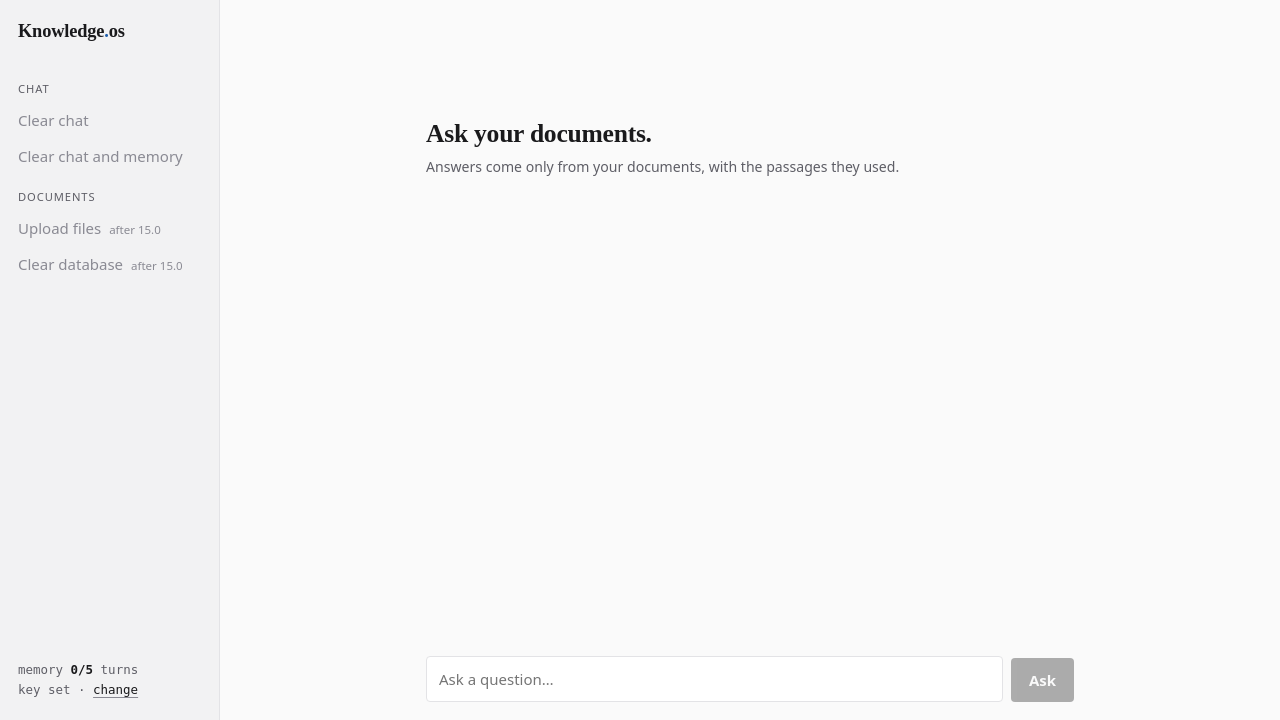
Test: App › replaces the streamed text with the final answer and its caveat
Type "How do I change a tyre?" into the text box labelled "question" at x=714, y=679, box [426, 656, 1003, 702]
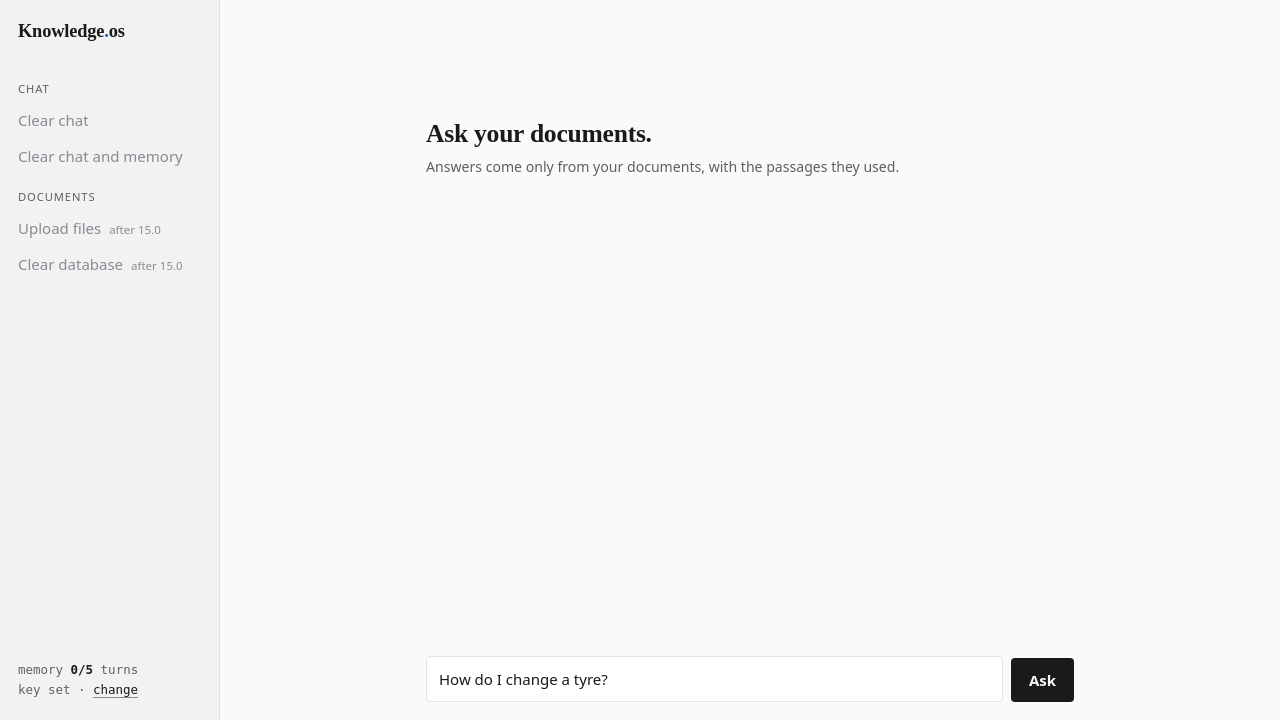
Click the button "Ask" at x=1042, y=680, box [1011, 658, 1074, 702]
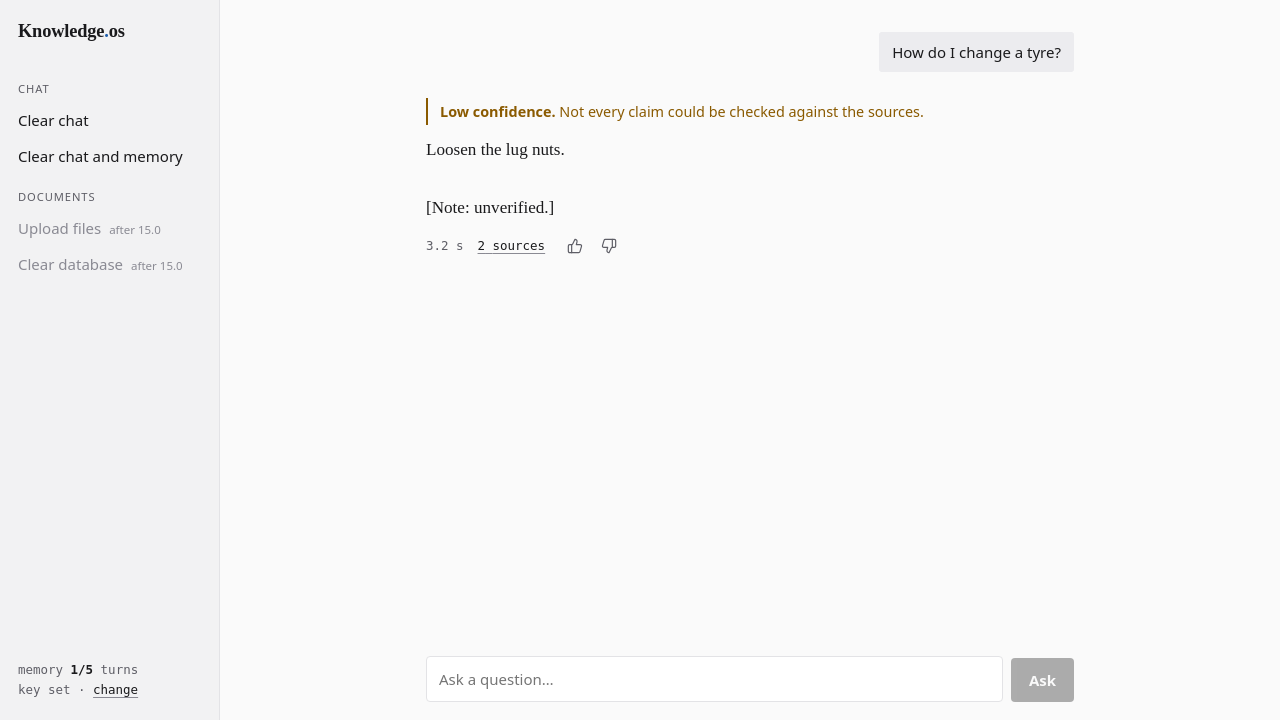
Expected: the message shows "Low confidence", [440, 102, 556, 121]
Expected: the text "Loosen the lug nuts. [Note: unverified.]" is shown, [426, 140, 565, 217]
